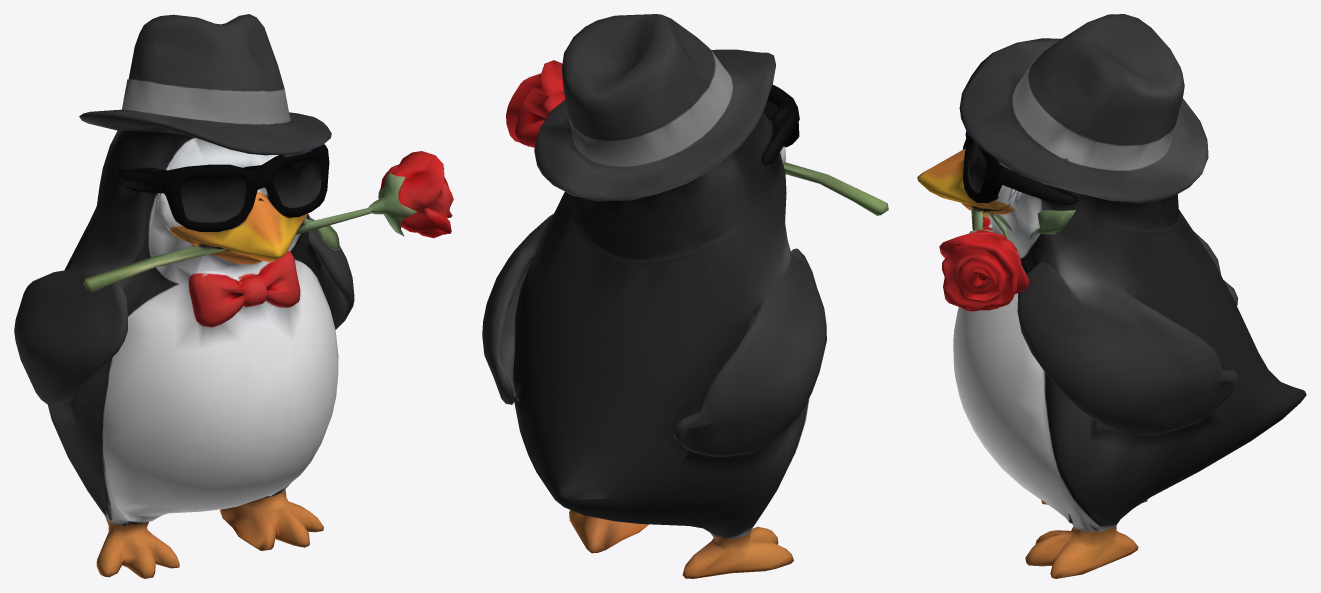
Rendered from 高雅企鹅-迷人.fbx.
3 views of the same model, side by side, from view 1: azimuth 30°, elevation 25°; view 2: azimuth 150°, elevation 25°; view 3: azimuth 270°, elevation 25° (orthographic). The views are drawn at different scales.
Visible parts, largest first — view 1: tripo_node_646d9bd2; view 2: tripo_node_646d9bd2; view 3: tripo_node_646d9bd2.
Boxes of the visible parts, box(x1,y1,x2,y2) form: tripo_node_646d9bd2: box(14, 14, 453, 578); tripo_node_646d9bd2: box(482, 14, 888, 578); tripo_node_646d9bd2: box(917, 14, 1306, 578).
Bounding box in the file's own units: 0.7277 × 1 × 0.6933.
1 material, 1 textured.
